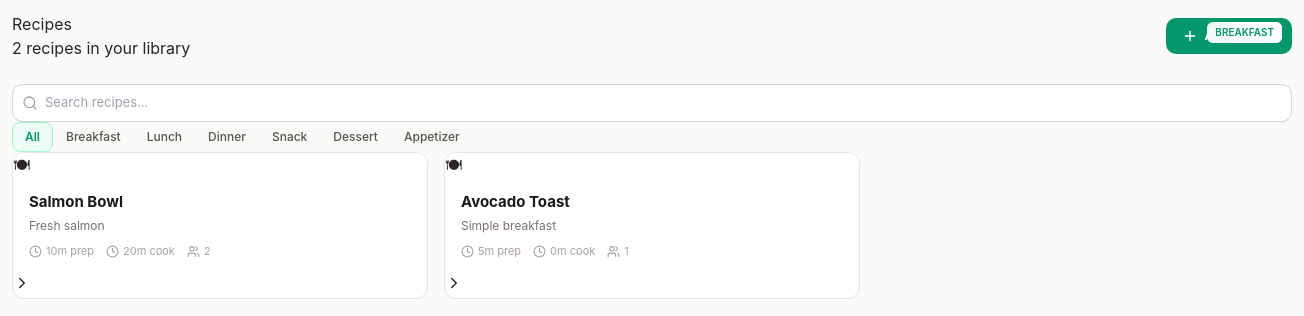
it: Recipes page › filters by search
This screenshot has width=1304, height=316.
expect the heading "Salmon Bowl" is shown: met, box x1=29 y1=192 x2=123 y2=210
Type "salmon" into the field with placeholder "Search recipes…" at [652, 103], box x1=12 y1=84 x2=1292 y2=122
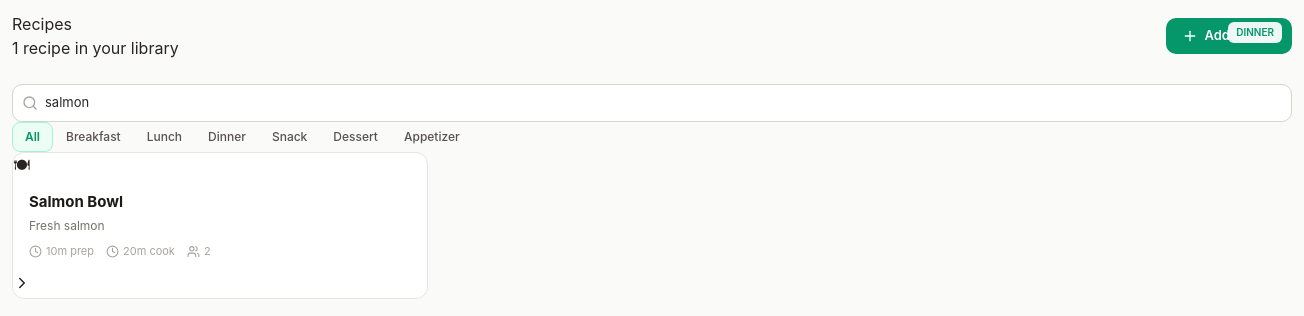
expect the heading "Salmon Bowl" is shown: met, box x1=29 y1=192 x2=123 y2=210
expect the heading "Avocado Toast" is gone: met
